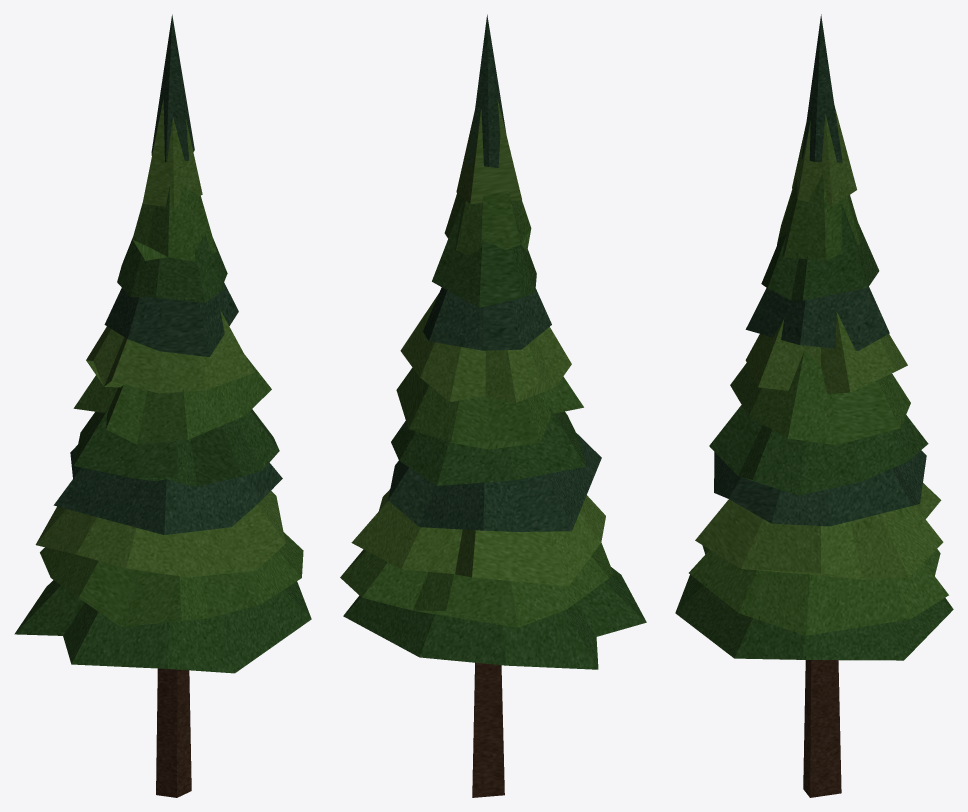
The model's file is Tree_Spruce_17m_LOD1.glb.
3 renders of one model, left to right at view 1: azimuth 30°, elevation 25°; view 2: azimuth 150°, elevation 25°; view 3: azimuth 270°, elevation 25°, orthographic.
Parts seen in each view (by area): view 1: Tree_Spruce_17m_export; view 2: Tree_Spruce_17m_export; view 3: Tree_Spruce_17m_export.
Boxes of the visible parts, x1,y1,x2,y2 form: Tree_Spruce_17m_export: (14,14,311,797); Tree_Spruce_17m_export: (340,14,646,797); Tree_Spruce_17m_export: (675,14,953,797).
Size of the model in its own units: 5.88 by 16.9 by 5.49.
5 materials, 5 textured.
